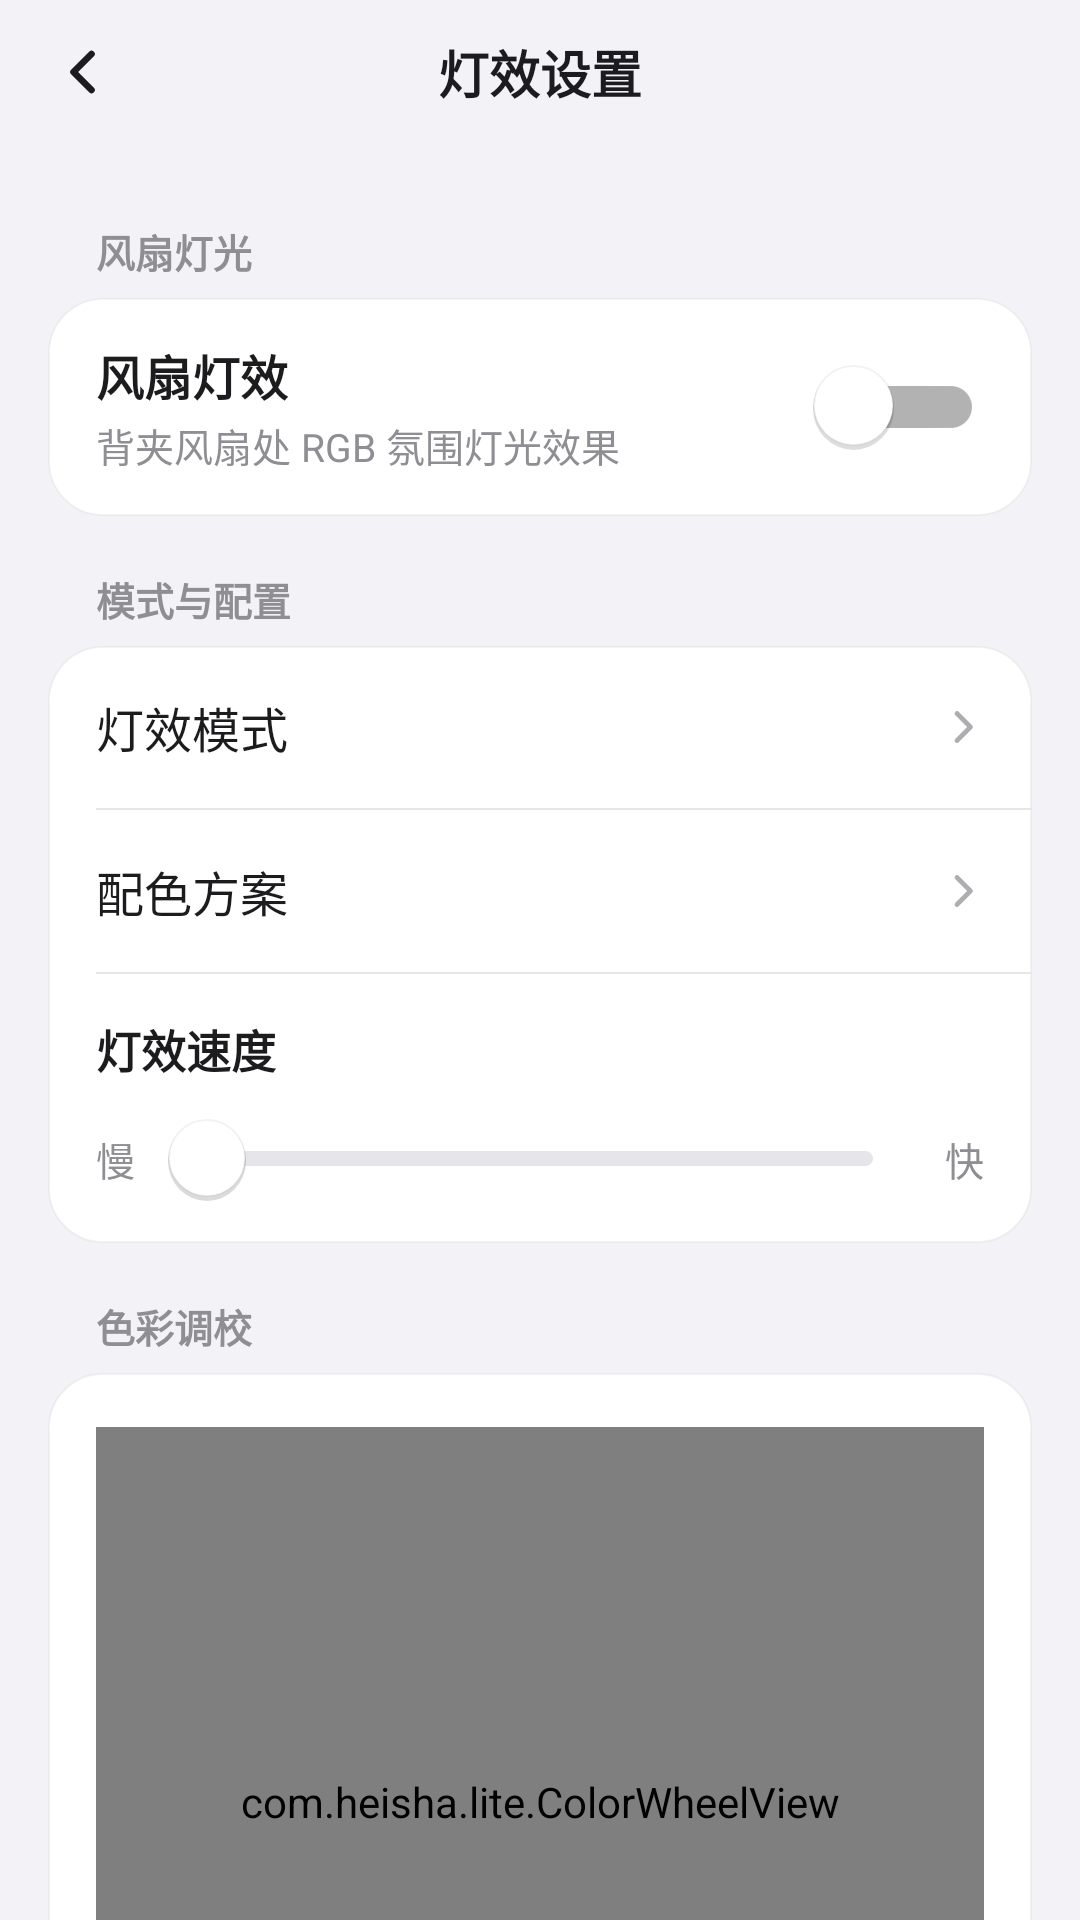

Icons on this 1080*1920 Android screen, each with its box as [x1=x1, y1=y1, x2=x2, y2=y2]:
返回: [x1=70, y1=50, x2=95, y2=94]
